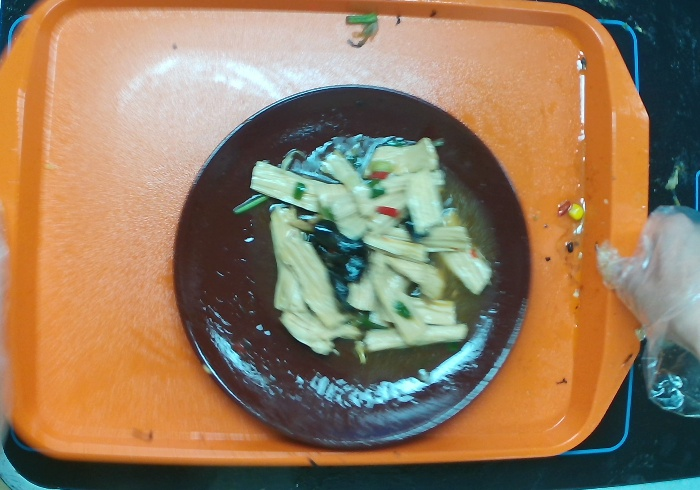HZYJPL-Ka_Fei_Yuan_Pan: (169, 81, 534, 454)
